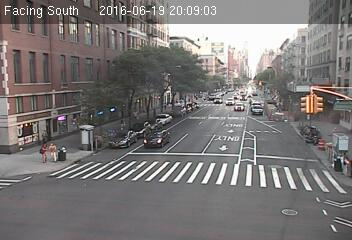neg: (294, 80, 326, 123), (161, 49, 190, 88), (73, 120, 98, 154), (58, 182, 83, 215), (283, 187, 306, 217), (228, 116, 249, 144), (320, 143, 341, 171), (162, 107, 182, 134), (81, 58, 101, 85), (244, 147, 264, 173), (288, 29, 307, 54), (130, 171, 147, 194), (230, 56, 247, 78), (204, 172, 220, 193), (270, 105, 285, 125), (241, 202, 256, 222), (131, 132, 145, 151)
pos: (33, 140, 50, 162), (46, 139, 62, 159)
